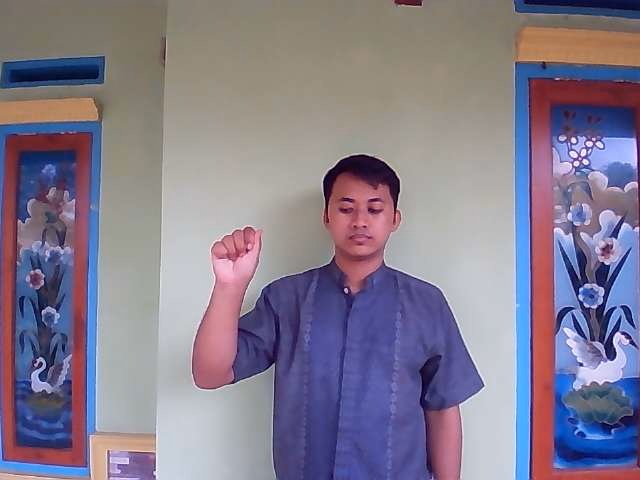A: (205, 223, 264, 298)
